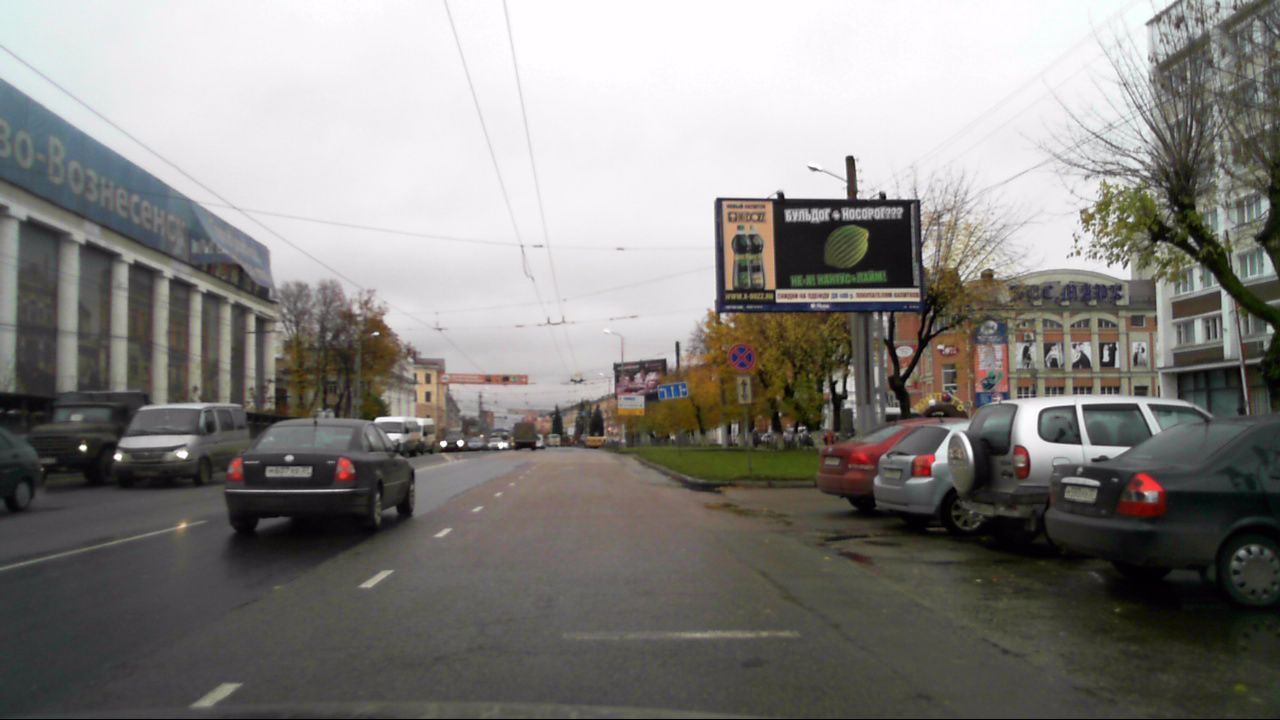No Parking: (727, 342, 756, 372)
